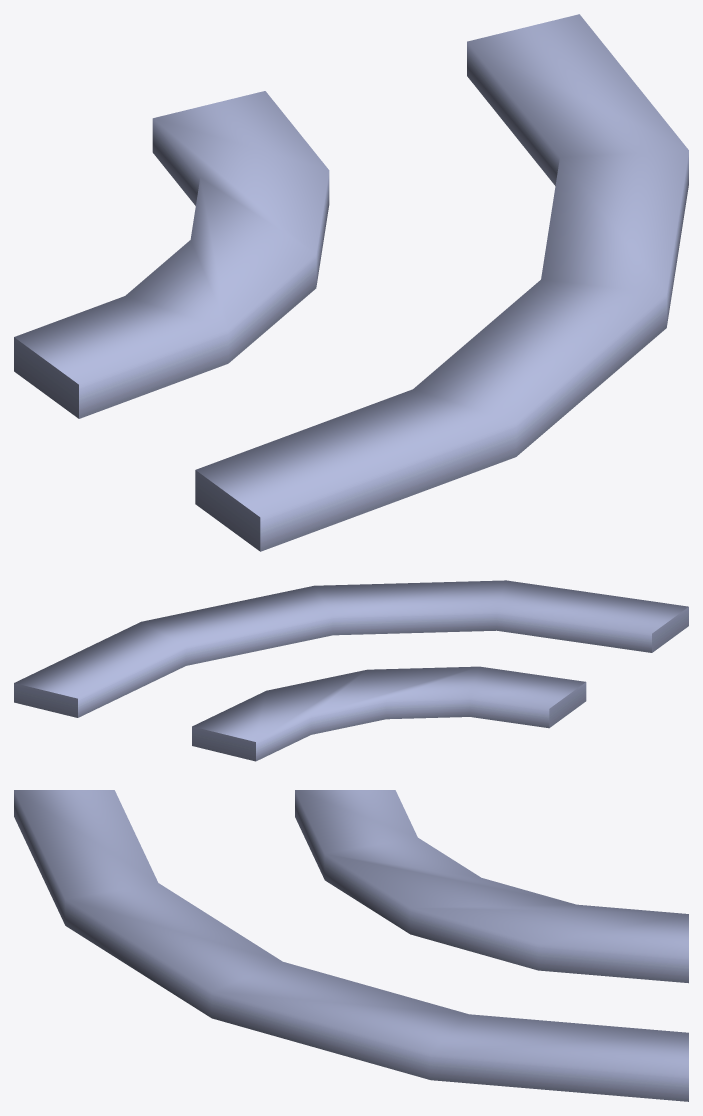
Rendered from kenney-holiday-trainset-rail-corner.glb.
The picture shows the model from 3 angles, top to bottom: view 1: azimuth 30°, elevation 25°; view 2: azimuth 150°, elevation 25°; view 3: azimuth 270°, elevation 25°; orthographic projection. The views are drawn at different scales.
Parts seen in each view (by area): view 1: trainset-rail-corner; view 2: trainset-rail-corner; view 3: trainset-rail-corner.
Boxes of the visible parts, x1,y1,x2,y2 form: trainset-rail-corner: (14, 14, 688, 551); trainset-rail-corner: (14, 580, 688, 761); trainset-rail-corner: (14, 790, 688, 1101).
Size of the model in its own units: 0.3485 by 0.0151 by 0.3485.
Materials: 1 (1 with a texture image).
